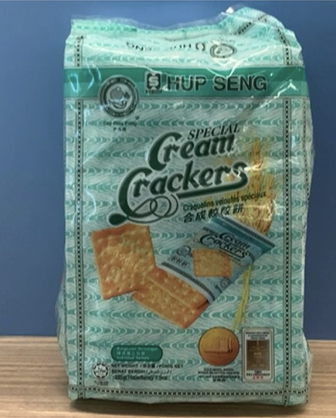crackers_150g: (81, 67, 283, 391)
